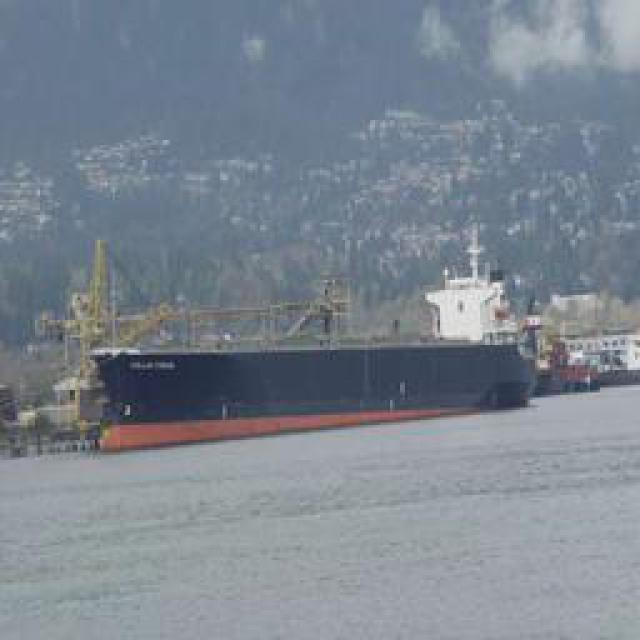Ship: (80, 267, 537, 453)
